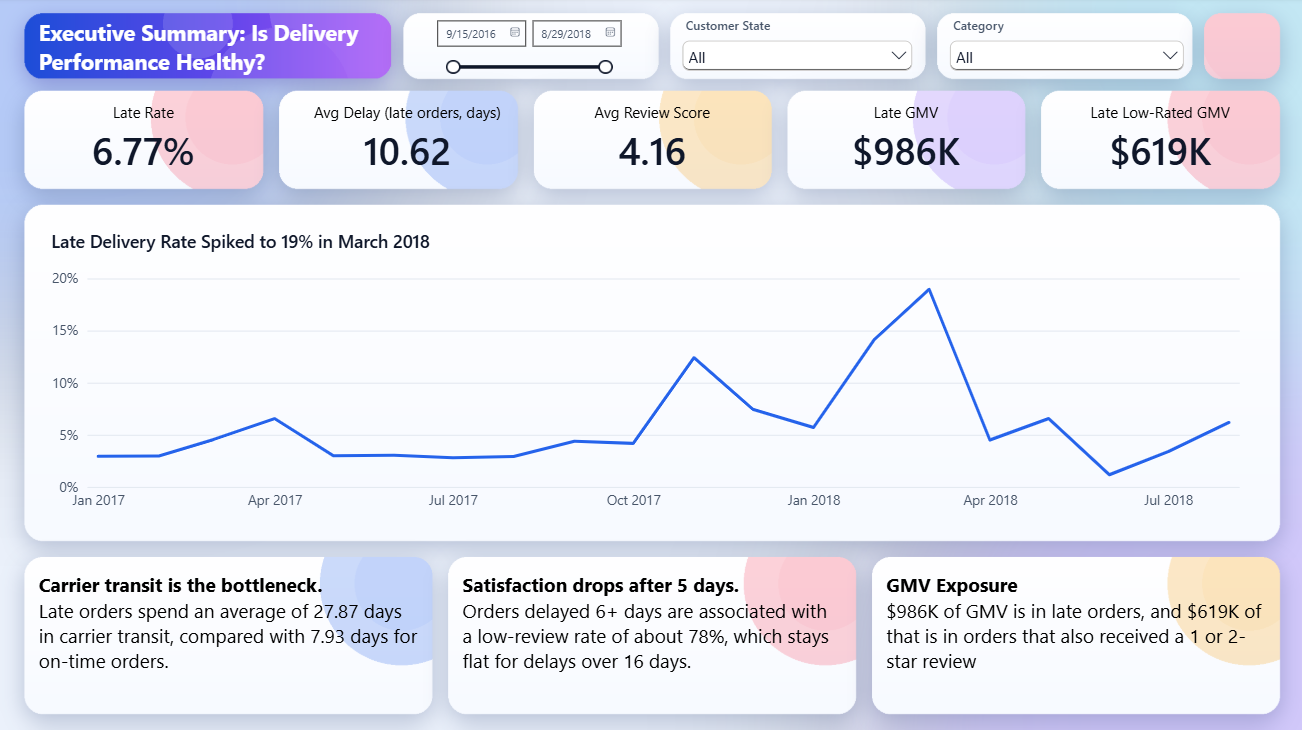

What the dashboard file says about the page in this screenshot:
{"tool":"powerbi","page":{"name":"Page 1","canvas":[1280,720],"ordinal":0},"visuals":[{"type":"textbox","box":[38,19.6,336.2,69.9],"z":0},{"type":"slicer","fields":{"Values":["dim_date.Date"]},"box":[401.2,11,229,78],"z":1000},{"type":"slicer","fields":{"Values":["gold_dim_state.customer_state"]},"box":[665,19.6,235.6,61.4],"z":2000},{"type":"slicer","fields":{"Values":["gold_dim_category.category"]},"box":[927.6,19.6,239.3,56.4],"z":3000},{"type":"cardVisual","fields":{"Data":["_Measures.Late Rate"]},"box":[34.4,99.4,213.5,81],"z":4000},{"type":"cardVisual","fields":{"Data":["_Measures.Avg Delay (late orders, days)"]},"box":[283.4,99.4,233.1,81],"z":5000},{"type":"cardVisual","fields":{"Data":["_Measures.Avg Review Score"]},"box":[534,100,213,80],"z":6000},{"type":"cardVisual","fields":{"Data":["_Measures.Late GMV"]},"box":[783,100,213,80],"z":7000},{"type":"cardVisual","fields":{"Data":["_Measures.Late Low-Rated GMV"]},"box":[1032,100,214,80],"z":8000},{"type":"lineChart","title":"Late Delivery Rate Spiked to 19% in March 2018","fields":{"Category":["dim_date.Month Start"],"Y":["_Measures.Late Rate"]},"box":[34,214,1212,310],"z":9000},{"type":"textbox","box":[38,564,372,126],"z":10000},{"type":"textbox","box":[454,564,372,126],"z":11000},{"type":"textbox","box":[870,564,372,126],"z":12000}]}

Visuals, with their boxes in screenshot pixels (x1, y1, x2, y2), scaled from the page's 1280x720 canvas onto the 1302x730 screenshot:
textbox: region(39, 20, 381, 91)
slicer - dim_date.Date: region(408, 11, 641, 90)
slicer - gold_dim_state.customer_state: region(676, 20, 916, 82)
slicer - gold_dim_category.category: region(944, 20, 1187, 77)
cardVisual - _Measures.Late Rate: region(35, 101, 252, 183)
cardVisual - _Measures.Avg Delay (late orders, days): region(288, 101, 525, 183)
cardVisual - _Measures.Avg Review Score: region(543, 101, 760, 182)
cardVisual - _Measures.Late GMV: region(796, 101, 1013, 182)
cardVisual - _Measures.Late Low-Rated GMV: region(1050, 101, 1267, 182)
"Late Delivery Rate Spiked to 19% in March 2018" lineChart: region(35, 217, 1267, 531)
textbox: region(39, 572, 417, 700)
textbox: region(462, 572, 840, 700)
textbox: region(885, 572, 1263, 700)
